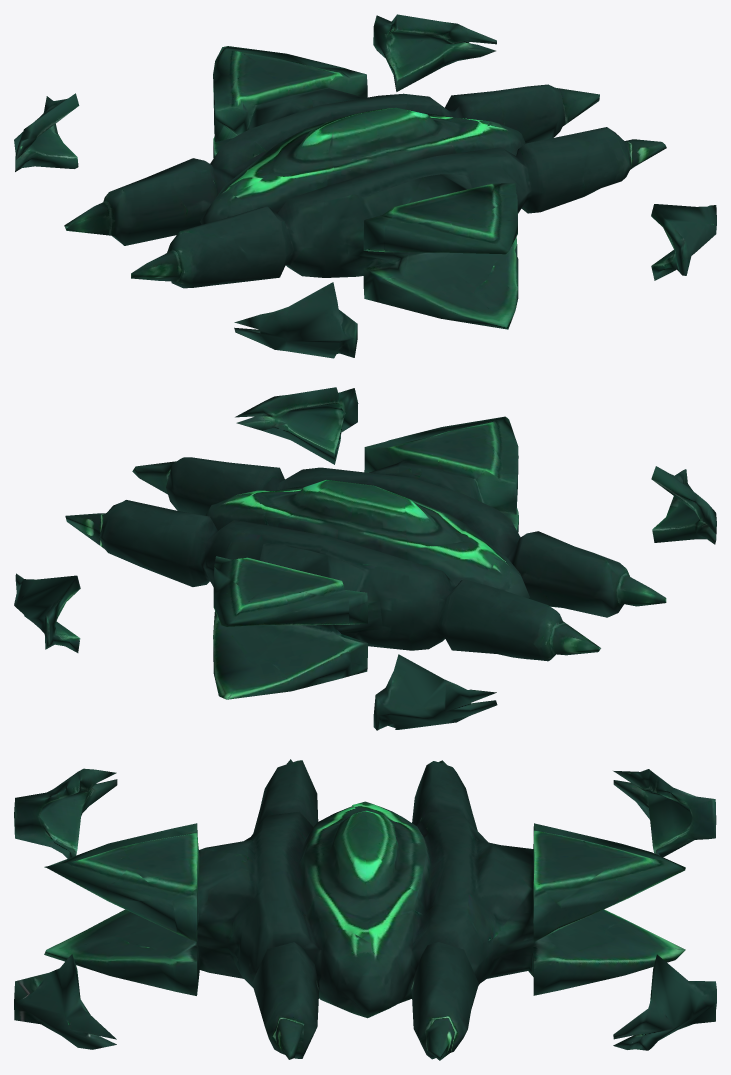
Rendered from phantom.glb.
3 renders of one model, top to bottom at view 1: azimuth 30°, elevation 25°; view 2: azimuth 150°, elevation 25°; view 3: azimuth 270°, elevation 25°, orthographic. The views are drawn at different scales.
Visible parts, largest first — view 1: mesh_node; view 2: mesh_node; view 3: mesh_node.
Part boxes in pixels (x1,y1,x2,y2): mesh_node: (14,14,716,358); mesh_node: (14,387,716,730); mesh_node: (14,759,716,1060).
Size of the model in its own units: 1.89 by 0.4816 by 1.9.
1 material, 1 textured.
